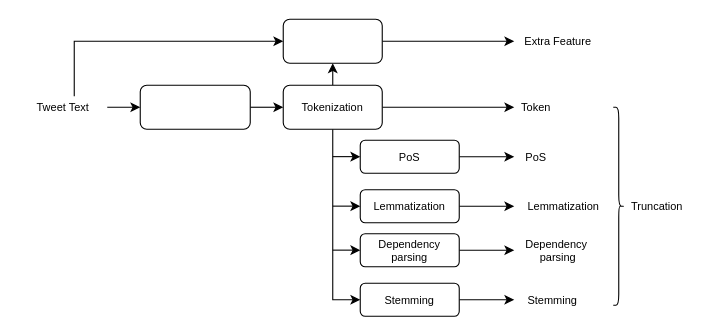
This 702x336 diagram has some shape labels left out. Here are the shapes that lost their labels. From the top down, the box of each, then its label:
(282, 18, 382, 63): Extra feature extraction
(139, 84, 250, 129): Preprocessing
